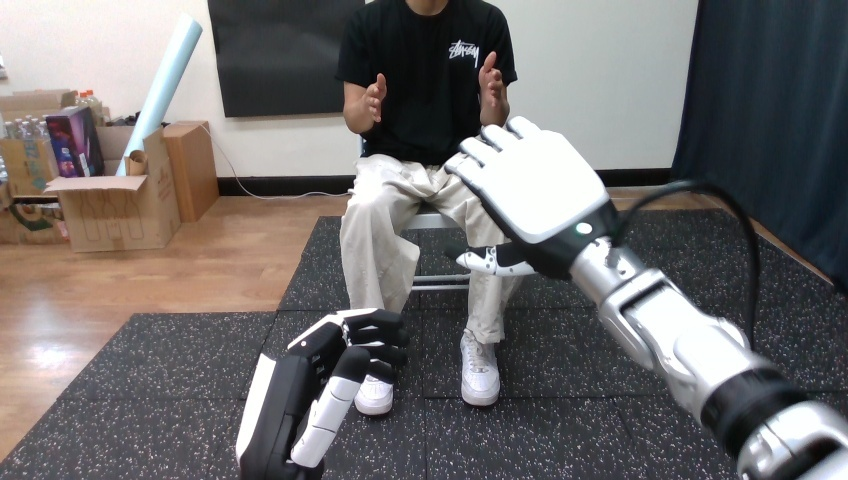left robot hand: (445, 117, 847, 478), (622, 190, 750, 337)
